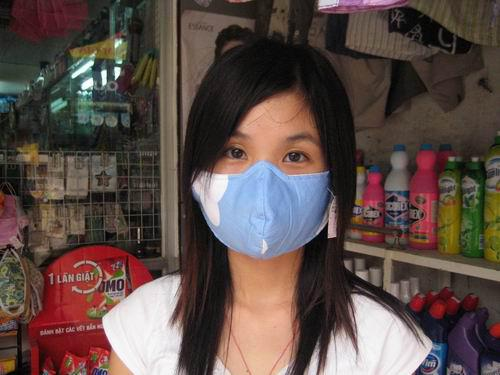OK: (204, 119, 333, 257)
